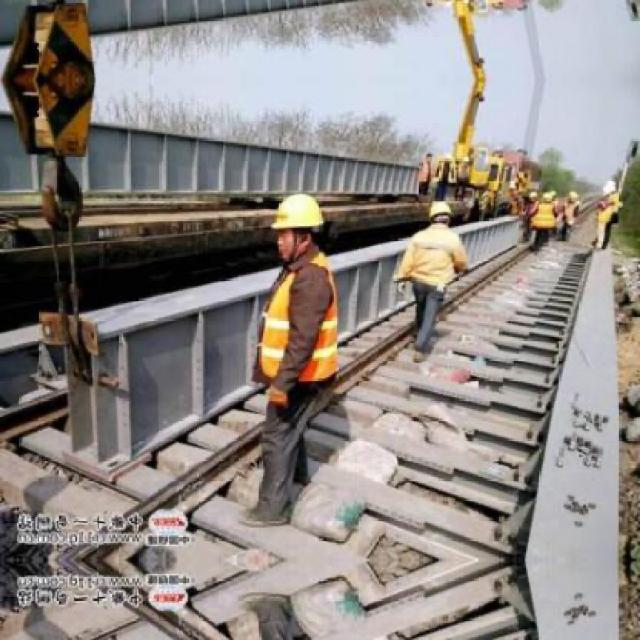helmet: (268, 189, 329, 265), (423, 196, 462, 230)
